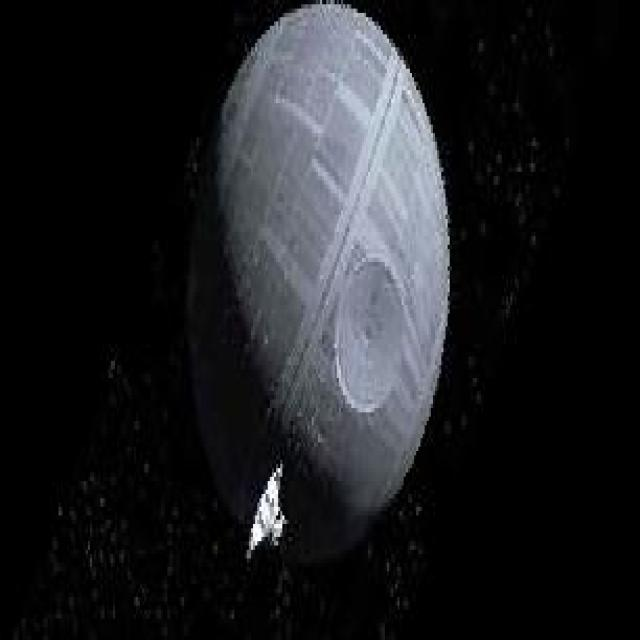Death Star: (186, 0, 456, 571)
